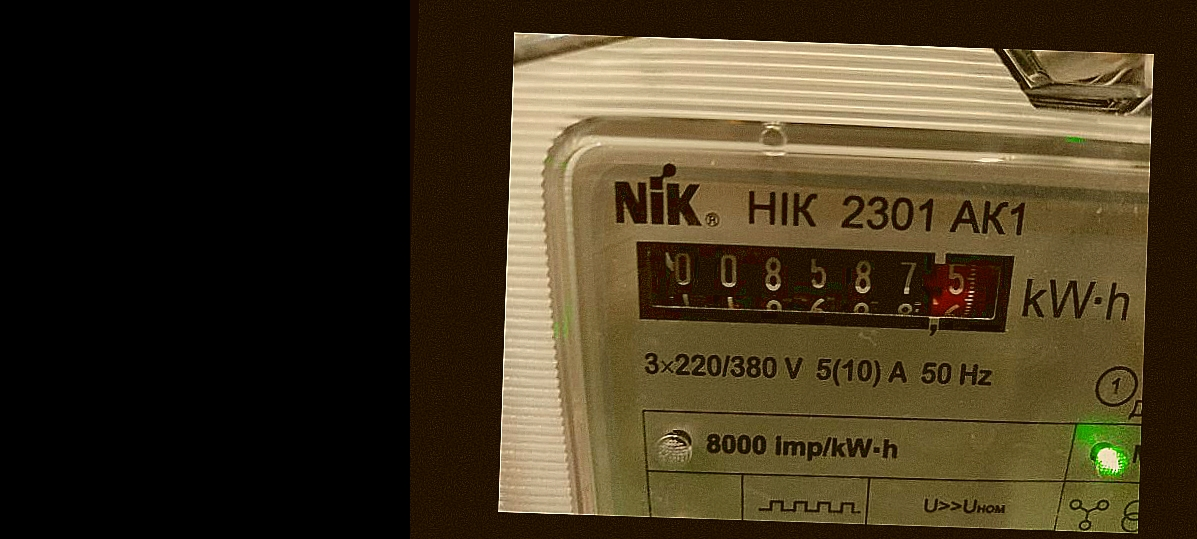0: (716, 249, 741, 290)
1: (669, 247, 695, 289)
5: (944, 257, 970, 298), (806, 253, 831, 292)
7: (895, 257, 920, 299)
8: (759, 252, 786, 294), (851, 255, 874, 297)
screen: (613, 220, 1035, 353)
